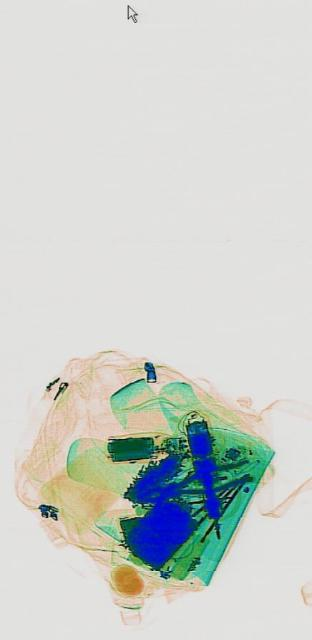Pliers: (143, 451, 250, 511)
